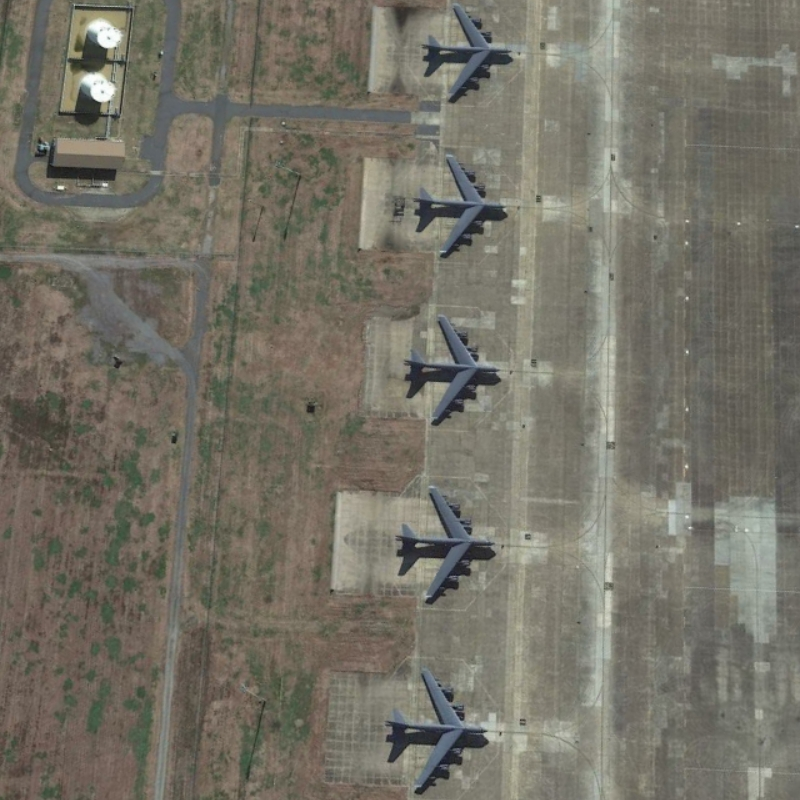A8: (383, 665, 492, 796), (392, 483, 498, 608), (400, 309, 506, 430), (412, 149, 510, 260), (417, 2, 515, 108)
